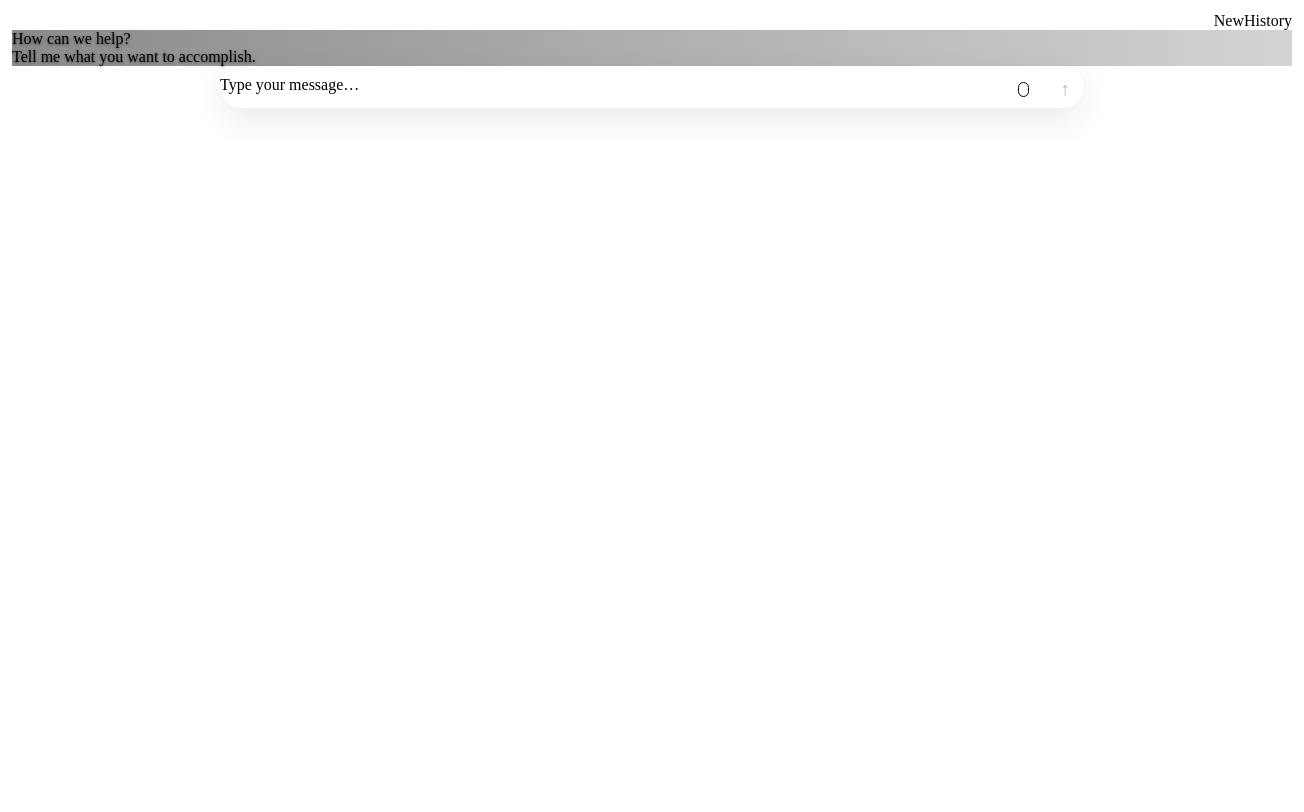
Test case: ConversationSurface › never lets an unrelated member-global ACTIVE Journey goal override the current conversation's "Working on"
Type "Help me find a food pantry nearby." into the text box named "Message your steward". click: (612, 87)
box: [220, 66, 1005, 108]
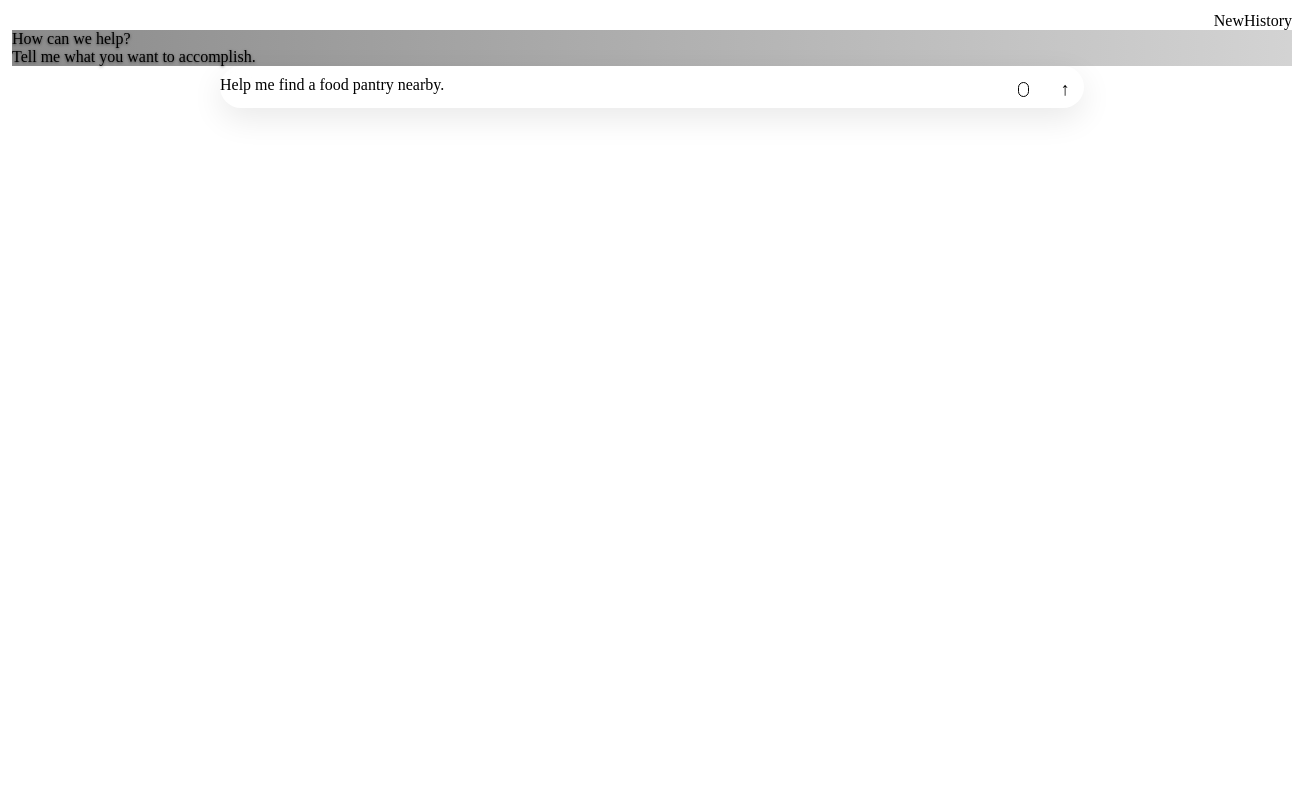
Click the button named "Send". click: (1065, 90)
box: [1046, 71, 1084, 108]
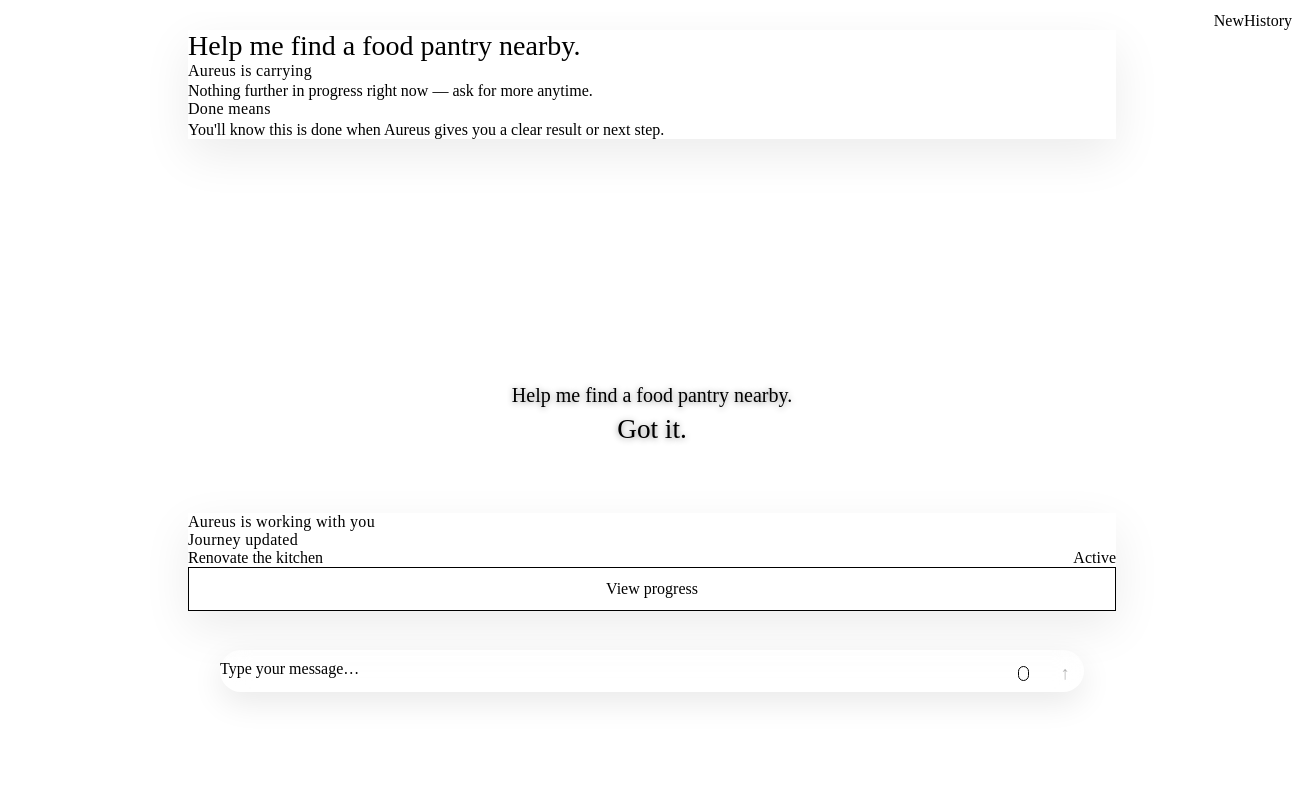
Expected: the text "Got it." is shown, [617, 414, 687, 444]
Expected: the heading "Help me find a food pantry nearby." is shown, [188, 30, 580, 61]
